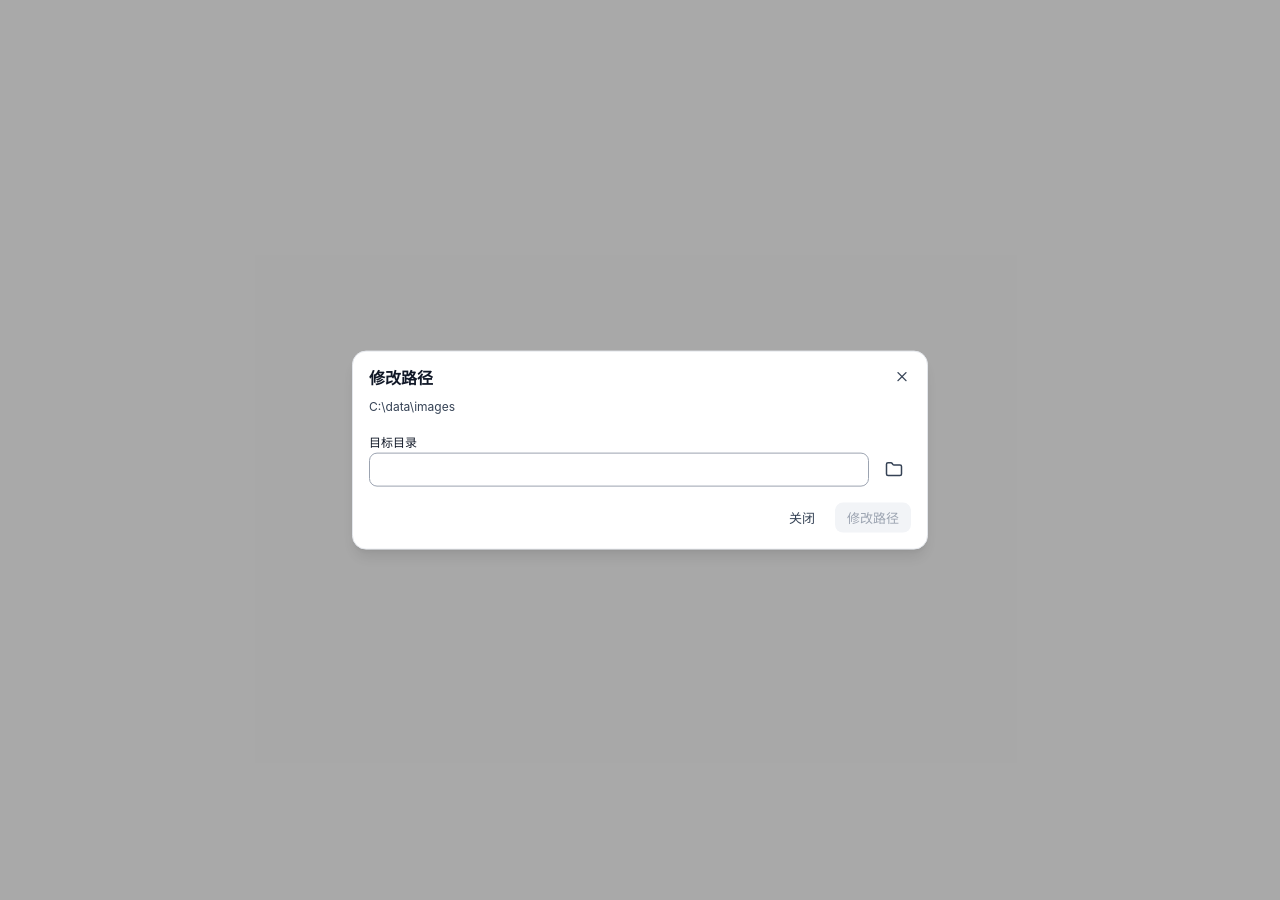
按后端 Windows 语义拼接目标 D:\images
Click the button named "选择目标父目录" at point(894, 469), box [877,452,911,486]
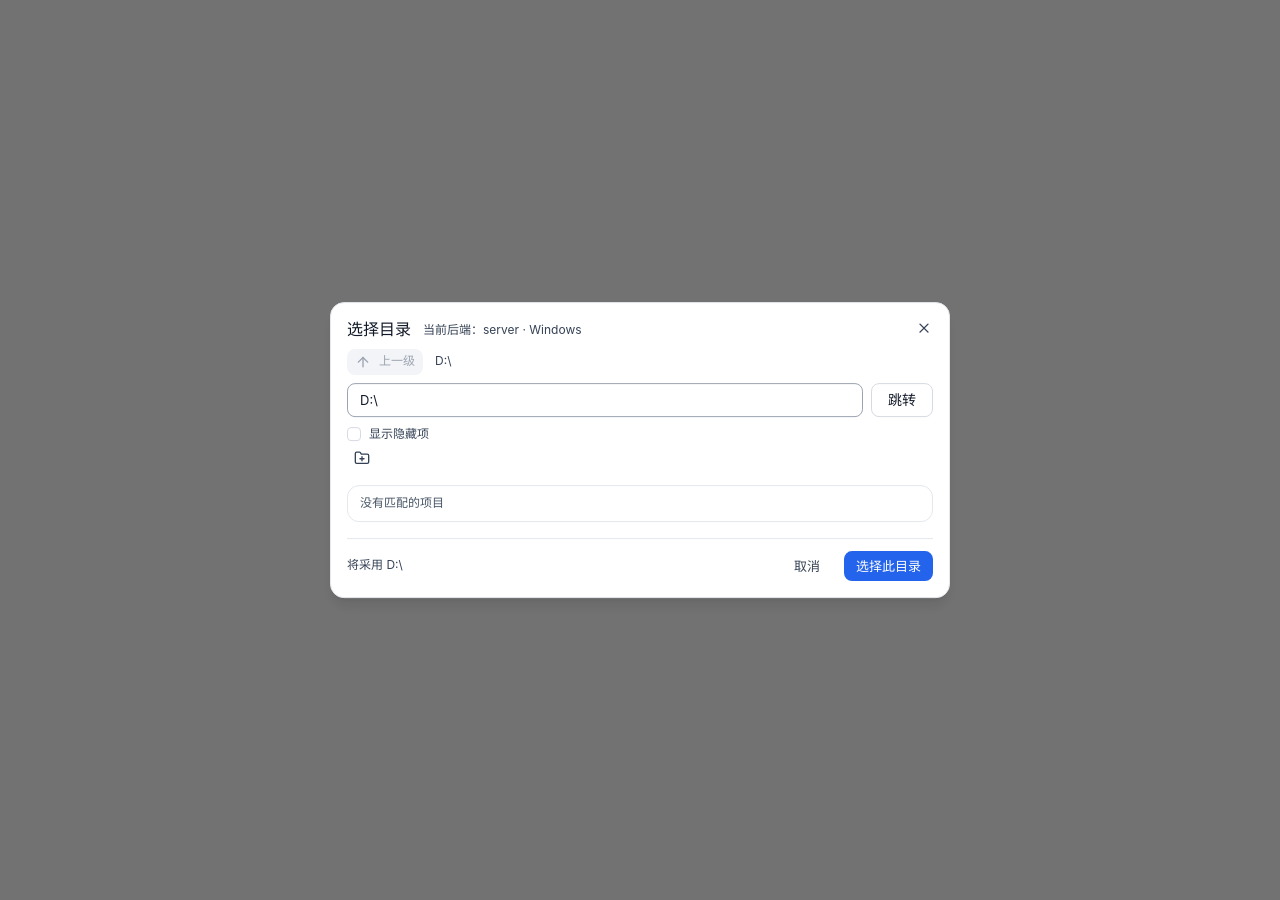
Now the text "没有匹配的项目" is shown, box [360,495,444,510]
Click the button "选择此目录" at point(888, 566), box [844,551,933,581]
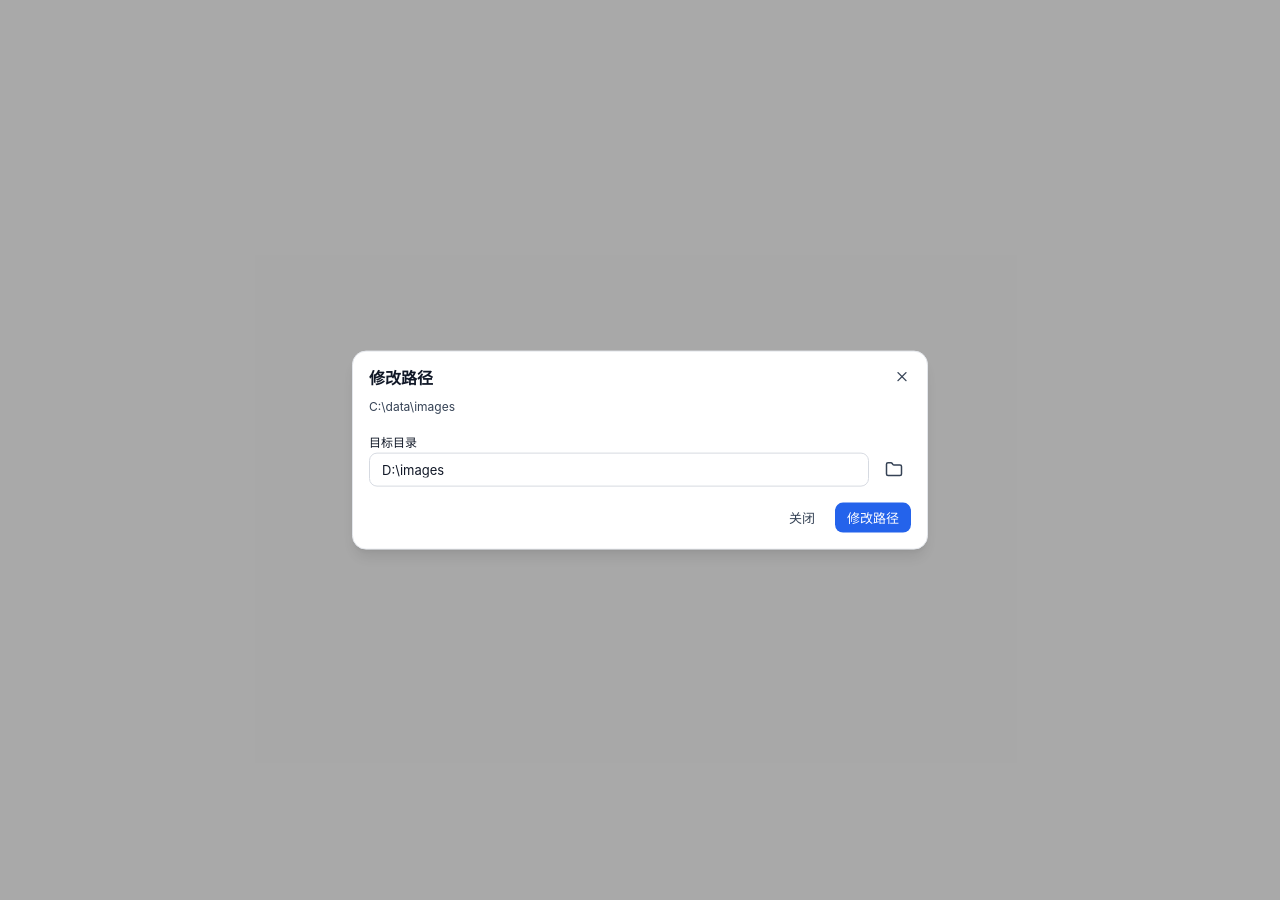
Now the field labelled "目标目录" holds "D:\\images", box [369,452,869,486]
